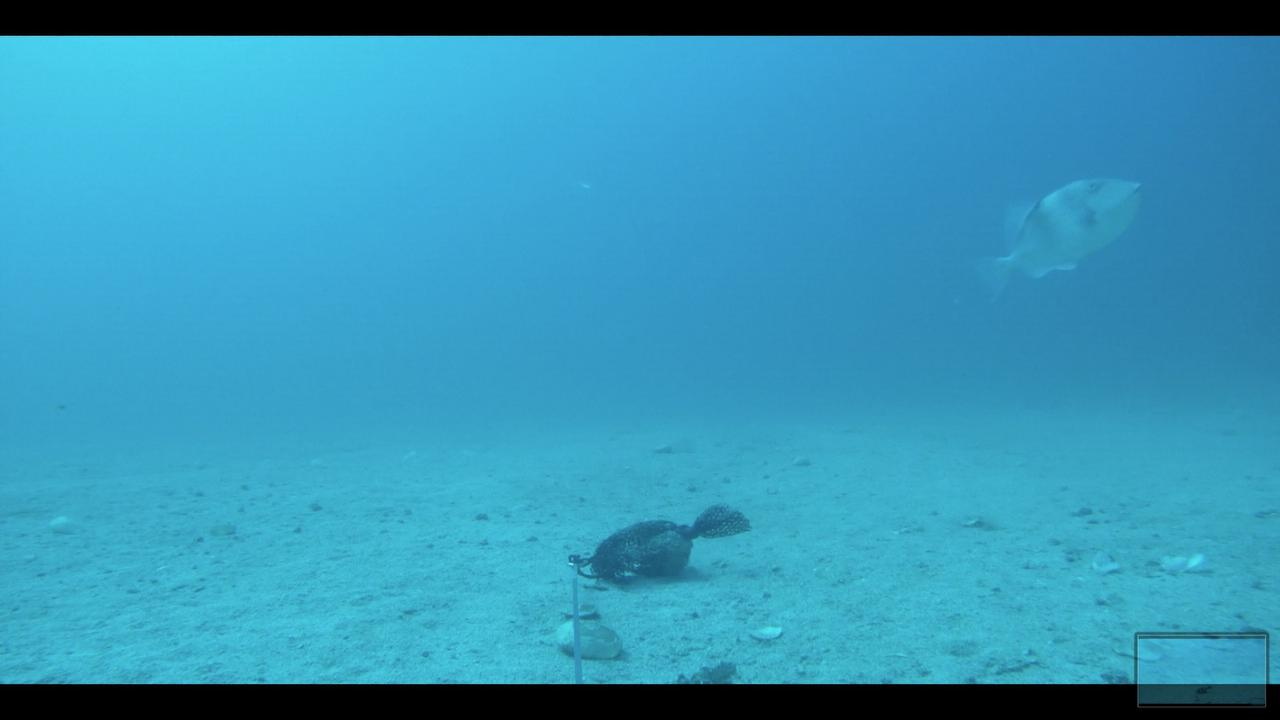balistes: (958, 159, 1147, 308)
